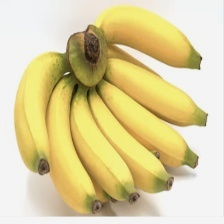banana: (33, 23, 224, 184)
